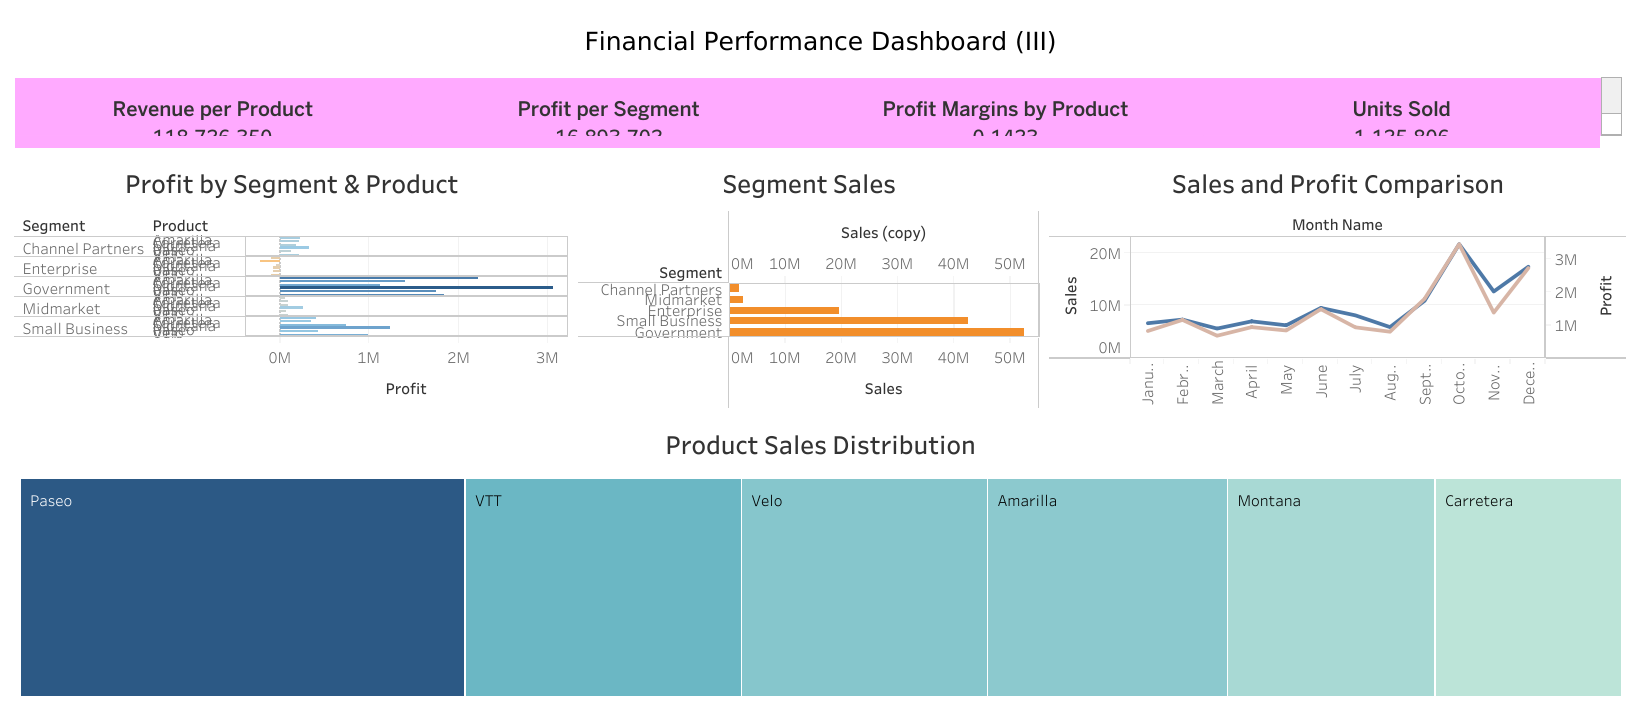

The dashboard page shown, as its layout file describes it:
{"tool":"tableau","page":{"name":"Dashboard 3","canvas":[1000,1000],"units":"permille","ordinal":2},"visuals":[{"type":"text","box":[4.8,10,990.3,87.3]},{"type":"worksheet","title":"KPI 3","mark":"Text","cols":["Calculation_1421709216038924","Calculation_1421709216063502","Calculation_1421709216165904","Calculation_1421709216202770"],"box":[4.8,97.3,990.3,113.7]},{"type":"worksheet","title":"Profit by Segment & Product","mark":"Automatic","rows":["Segment","Product "],"cols":["Profit "],"box":[4.8,211,344.4,365.8]},{"type":"worksheet","title":"Segment Sales","mark":"Bar","rows":["Segment"],"cols":["Sales ","Sales (copy)_0859861418819584"],"box":[349.2,211,287.5,365.8]},{"type":"worksheet","title":"Sales and Profit Comparison","mark":"Line","rows":["Sales ","Profit "],"cols":["Month Name "],"box":[636.7,211,358.4,365.8]},{"type":"worksheet","title":"Product Sales Distribution","mark":"Automatic","box":[4.8,576.8,990.3,413.2]}]}

Visuals, with their boxes on the dashboard's canvas, which has no fixed pixel size, in thousandths of its width and height (x1, y1, x2, y2). These are canvas units, not pixel positions in the 1640x716 screenshot, which may show the page scaled, cropped or inside an application window:
text: x1=5, y1=10, x2=995, y2=97
"KPI 3" worksheet (Text marks): x1=5, y1=97, x2=995, y2=211
"Profit by Segment & Product" worksheet: x1=5, y1=211, x2=349, y2=577
"Segment Sales" worksheet (Bar marks): x1=349, y1=211, x2=637, y2=577
"Sales and Profit Comparison" worksheet (Line marks): x1=637, y1=211, x2=995, y2=577
"Product Sales Distribution" worksheet: x1=5, y1=577, x2=995, y2=990
